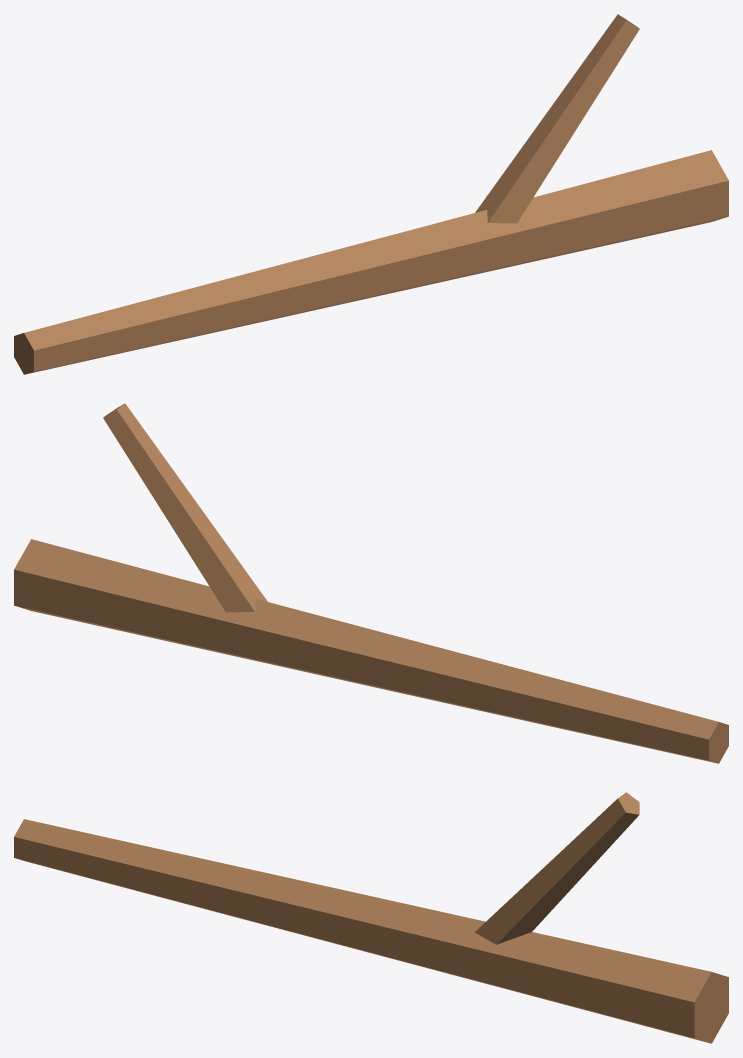
File: deco_twig.obj
The picture shows the model from 3 angles, top to bottom: view 1: azimuth 30°, elevation 25°; view 2: azimuth 150°, elevation 25°; view 3: azimuth 330°, elevation 25°; orthographic projection.
Parts seen in each view (by area): view 1: deco_twig; view 2: deco_twig; view 3: deco_twig.
Boxes of the visible parts, x1=… form: deco_twig: x1=14, y1=14, x2=728, y2=374; deco_twig: x1=14, y1=403, x2=728, y2=763; deco_twig: x1=14, y1=792, x2=728, y2=1043.
Bounding box in the file's own units: 0.12 × 0.0378 × 0.0104.
1 material, 1 textured.
